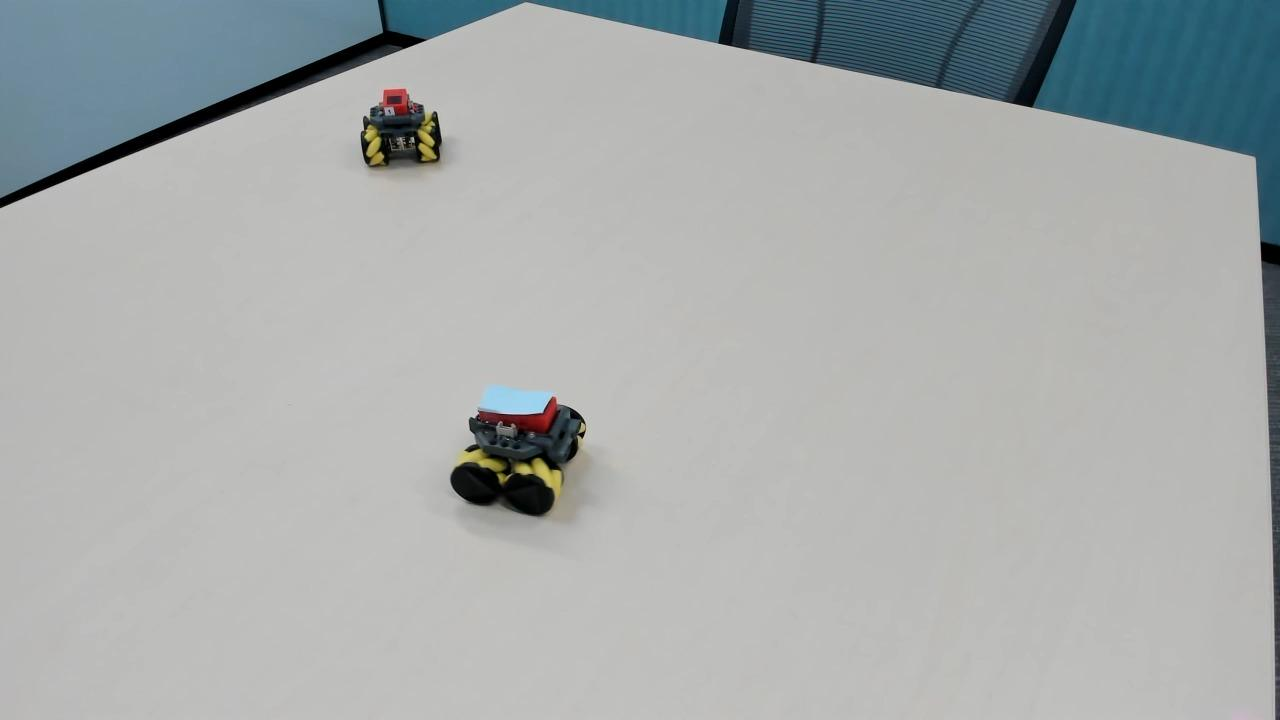B-Robot: (438, 370, 602, 519)
R-Robot: (352, 83, 455, 181)
